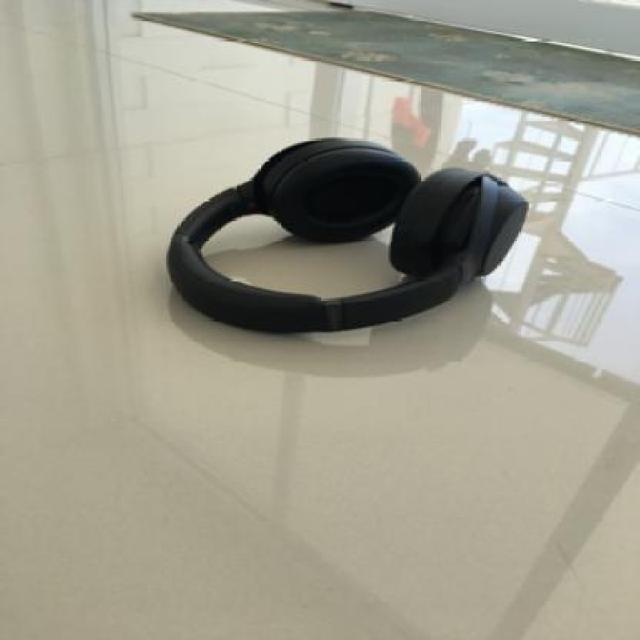earphone: (175, 85, 532, 378)
